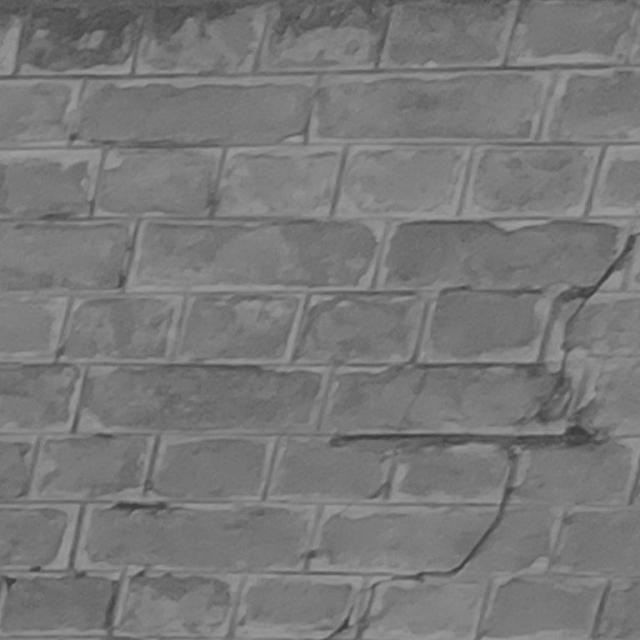crack: (325, 231, 639, 640)
